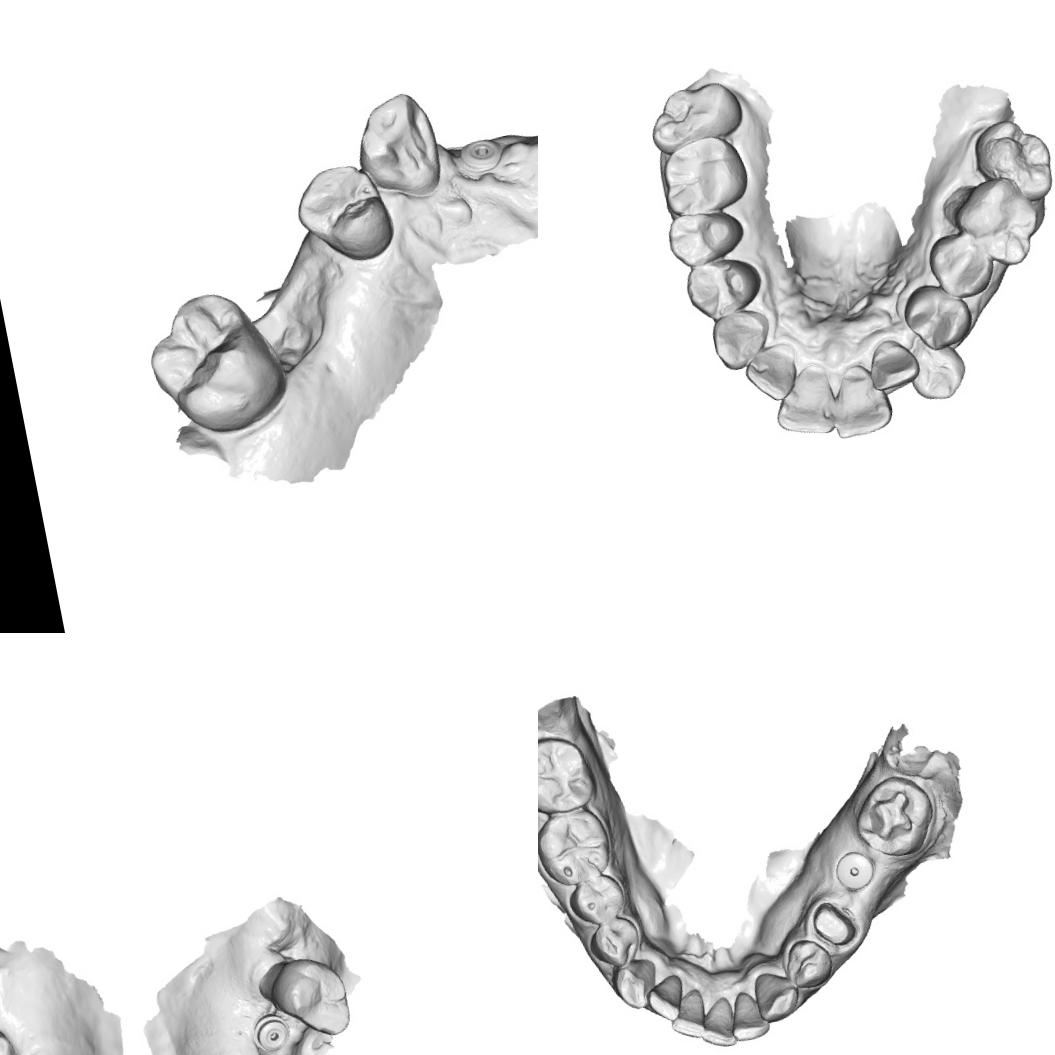canine: (346, 87, 448, 204), (706, 303, 778, 374), (903, 338, 972, 406), (605, 955, 664, 1014), (748, 964, 804, 1026)
crown: (806, 895, 860, 953)
implant: (829, 845, 878, 895), (247, 1008, 294, 1054), (459, 133, 506, 178)
incisor: (820, 358, 898, 442), (765, 361, 840, 446), (738, 340, 804, 408), (862, 331, 923, 392), (664, 985, 712, 1046), (724, 986, 772, 1044), (642, 970, 690, 1027), (695, 992, 740, 1052)
inlay: (854, 786, 920, 848)
molar: (137, 280, 296, 446), (949, 170, 1050, 275), (253, 948, 357, 1048), (654, 130, 754, 220), (967, 111, 1055, 211), (642, 76, 747, 158), (538, 804, 617, 890), (538, 727, 600, 819)
premolar: (287, 155, 400, 272), (679, 248, 768, 328), (896, 276, 977, 356), (660, 202, 750, 271), (922, 225, 996, 306), (562, 870, 630, 928), (582, 912, 646, 971), (779, 934, 837, 992)
